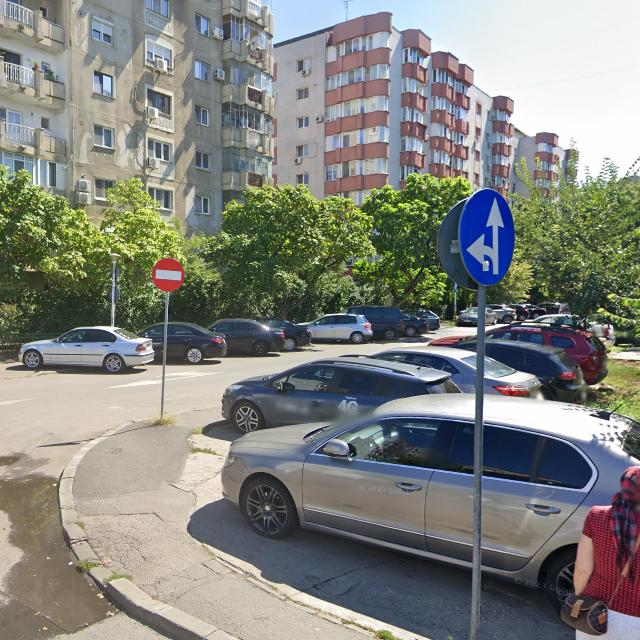forb_ahead: (152, 256, 185, 292)
mand_straigh_left: (457, 186, 518, 286)
